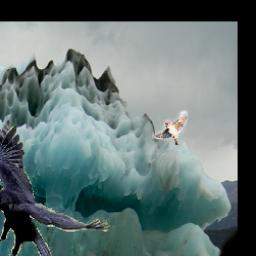Crow: (0, 120, 109, 256)
Sparrow: (151, 110, 187, 145)
